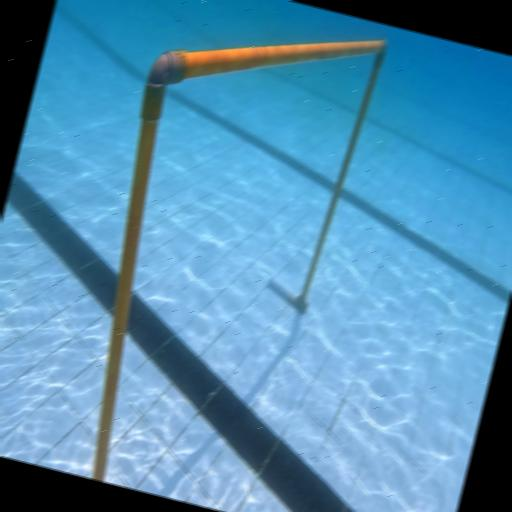gate: (50, 0, 388, 512)
